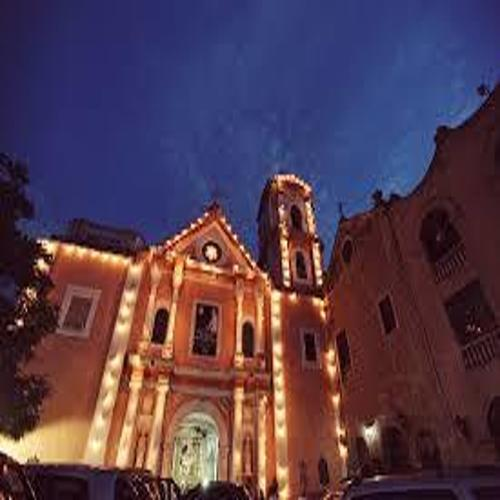San Agustin Church: (115, 166, 349, 498)
